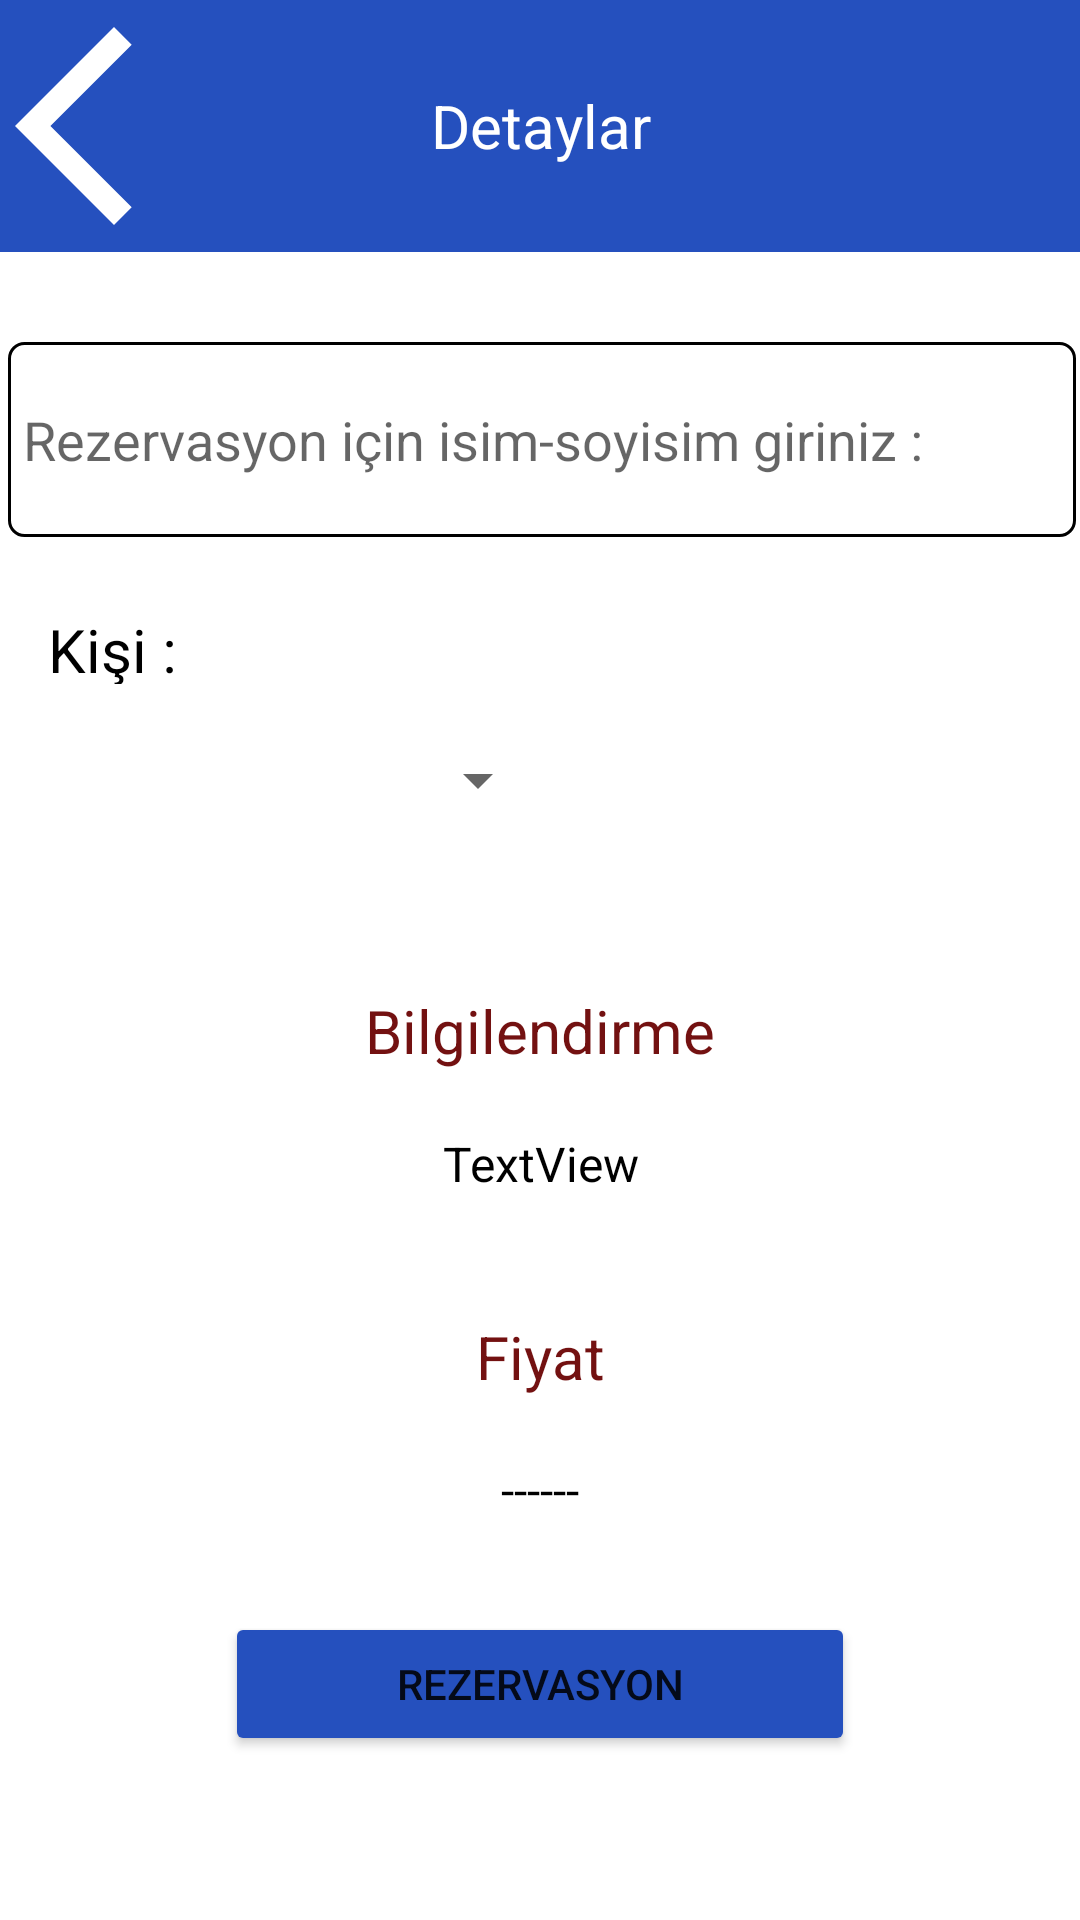

Screen size 1080w x 1920h. Icon name, then its box in pixels as (x1, y1, x2, y2):
arrow back: (15, 27, 132, 225)
